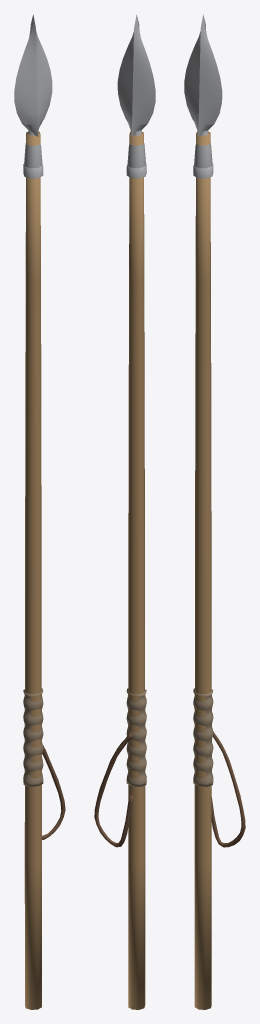
Rendered from amentum.glb.
3 views of the same model, side by side, from view 1: azimuth 30°, elevation 25°; view 2: azimuth 150°, elevation 25°; view 3: azimuth 330°, elevation 25° (orthographic).
Parts seen in each view (by area): view 1: amentum; view 2: amentum; view 3: amentum.
Part boxes in pixels (box(x1,y1,x2,y2)): amentum: box(14, 14, 65, 1009); amentum: box(94, 14, 155, 1009); amentum: box(184, 14, 245, 1009).
Size of the model in its own units: 0.1921 by 3.24 by 0.0783.
